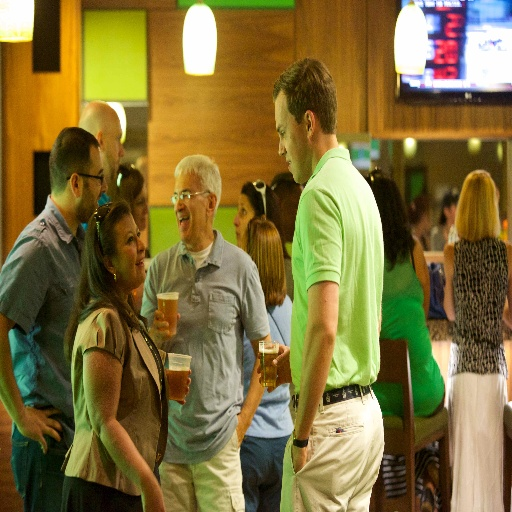hand: (11, 401, 54, 470), (256, 343, 291, 396), (150, 309, 180, 350), (167, 366, 192, 406), (140, 483, 167, 511), (291, 441, 308, 474), (237, 412, 246, 448)
